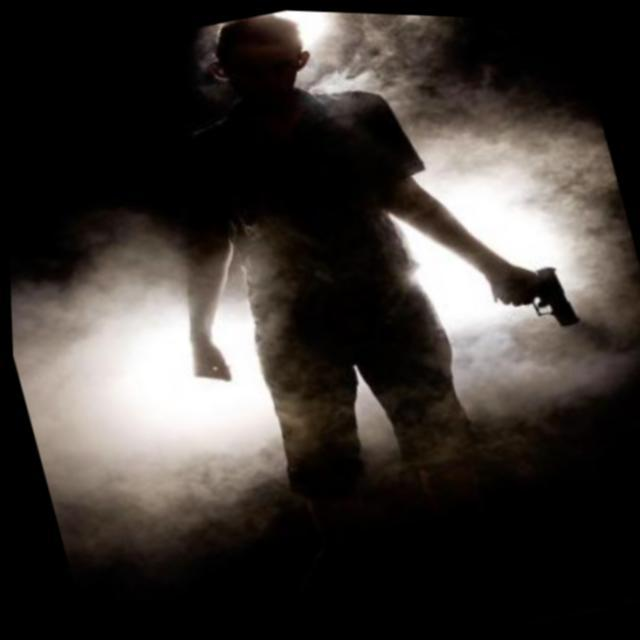weapon: (472, 244, 591, 350)
